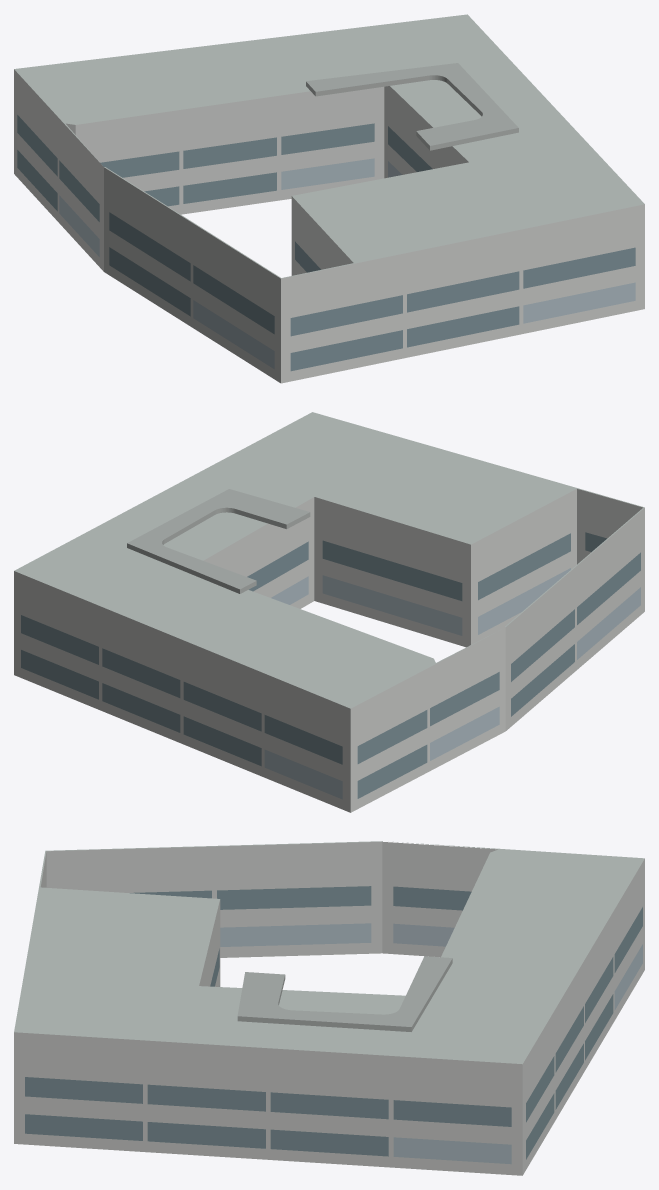
File: named-apt-0242c021-6b57-49eb-8f24-4b65c5a443d7.glb
3 views of the same model, one above another, from view 1: azimuth 30°, elevation 25°; view 2: azimuth 150°, elevation 25°; view 3: azimuth 270°, elevation 25° (orthographic). The views are drawn at different scales.
Visible parts, largest first — view 1: named-apt-0242c021-6b57-49eb-8f24-4b65c5a443d7; view 2: named-apt-0242c021-6b57-49eb-8f24-4b65c5a443d7; view 3: named-apt-0242c021-6b57-49eb-8f24-4b65c5a443d7.
Part boxes in pixels (x1=…): named-apt-0242c021-6b57-49eb-8f24-4b65c5a443d7: x1=14, y1=14, x2=644, y2=383; named-apt-0242c021-6b57-49eb-8f24-4b65c5a443d7: x1=14, y1=412, x2=644, y2=812; named-apt-0242c021-6b57-49eb-8f24-4b65c5a443d7: x1=14, y1=841, x2=644, y2=1175.
Bounding box in the file's own units: 39.2 × 9.56 × 46.87.
